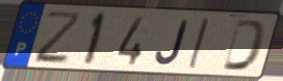1: (80, 11, 107, 68)
4: (115, 14, 145, 68)
D: (219, 17, 269, 73)
I: (185, 16, 211, 70)
J: (153, 19, 191, 67)
Z: (33, 11, 84, 66)
